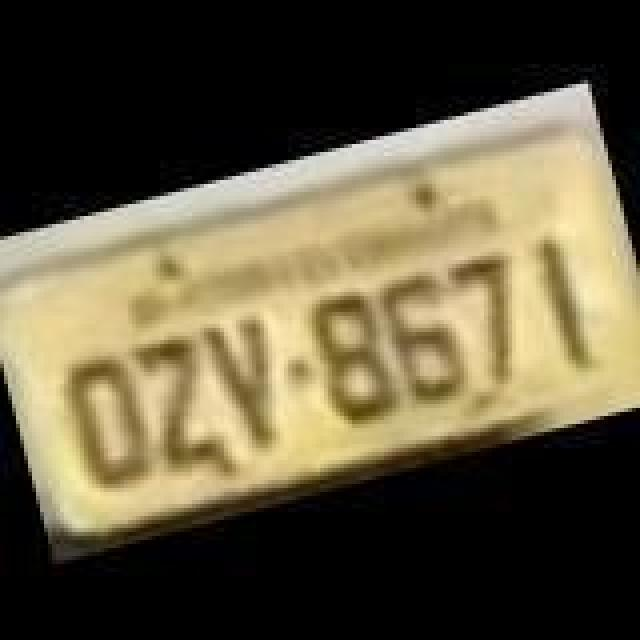1: (522, 224, 598, 368)
6: (376, 264, 472, 408)
7: (440, 246, 536, 394)
8: (304, 286, 400, 426)
O: (54, 344, 162, 488)
V: (196, 308, 292, 452)
Z: (126, 328, 226, 472)
